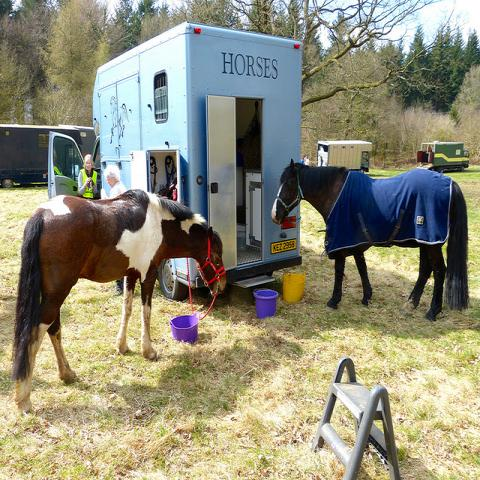truck: (48, 22, 304, 302)
